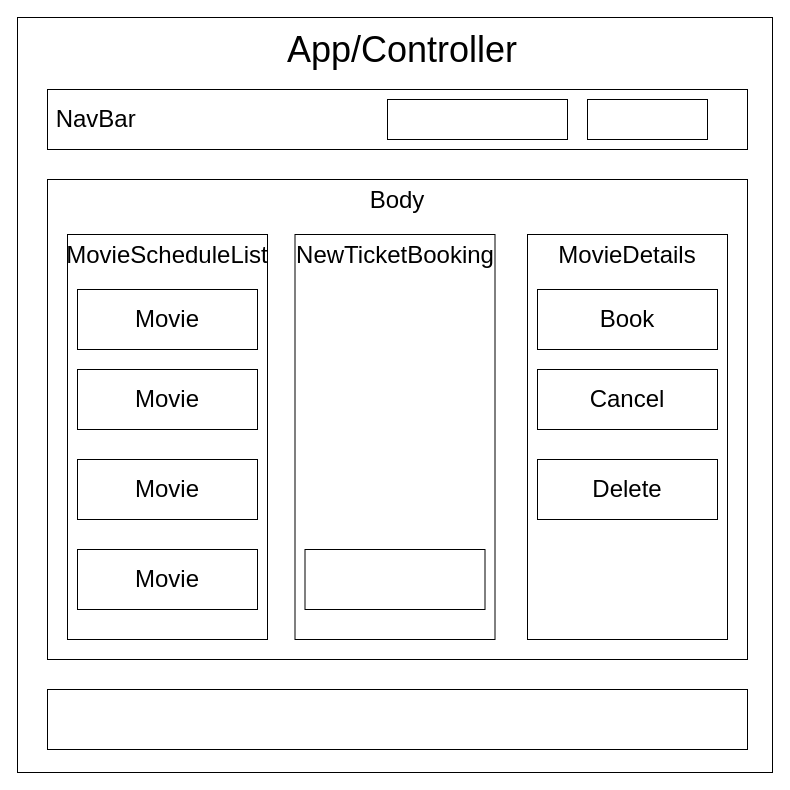
This 790x790 diagram has some shape labels left out. The shapes that lost their labels are listed below. From the top down, each one's centre as x and y in pixels, then its label:
point 477,119: Main Page(Movie Schedule List)
point 647,119: Add new Ticket
point 394,579: Submit
point 397,719: Footer
